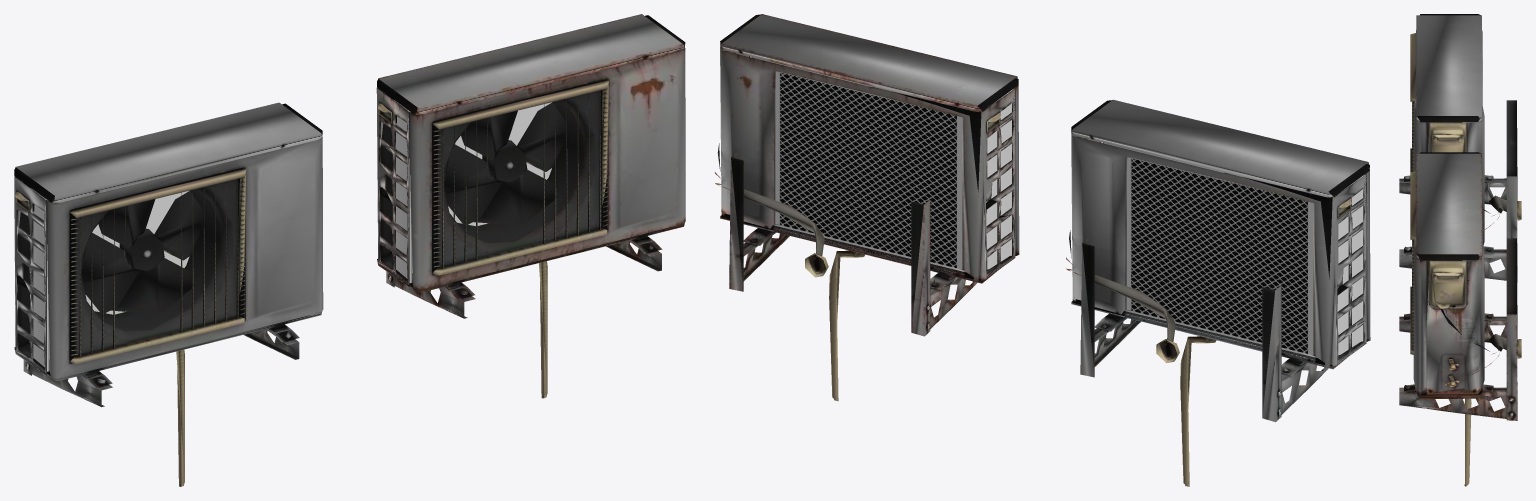
The model's file is exterior_aircon_unit.glb.
The picture shows the model from 3 angles, left to right: view 1: azimuth 30°, elevation 25°; view 2: azimuth 150°, elevation 25°; view 3: azimuth 270°, elevation 25°; orthographic projection. The views are drawn at different scales.
Visible parts, largest first — view 1: exterior_aircon_unit_rusted, exterior_aircon_unit; view 2: exterior_aircon_unit, exterior_aircon_unit_rusted; view 3: exterior_aircon_unit_rusted, exterior_aircon_unit.
Boxes of the visible parts, left/top/right/bottom form: exterior_aircon_unit_rusted: left=376, top=14, right=685, bottom=398; exterior_aircon_unit: left=14, top=102, right=323, bottom=486; exterior_aircon_unit: left=1066, top=99, right=1370, bottom=486; exterior_aircon_unit_rusted: left=715, top=14, right=1019, bottom=401; exterior_aircon_unit_rusted: left=1399, top=152, right=1521, bottom=486; exterior_aircon_unit: left=1399, top=14, right=1521, bottom=282.
Bounding box in the file's own units: 1.8 × 0.922 × 0.3742.
4 materials, 4 textured.
